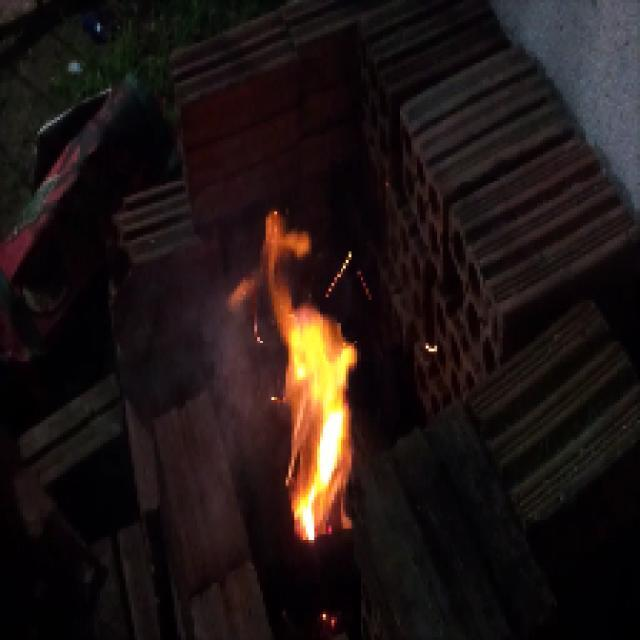Fire: (233, 203, 378, 541)
